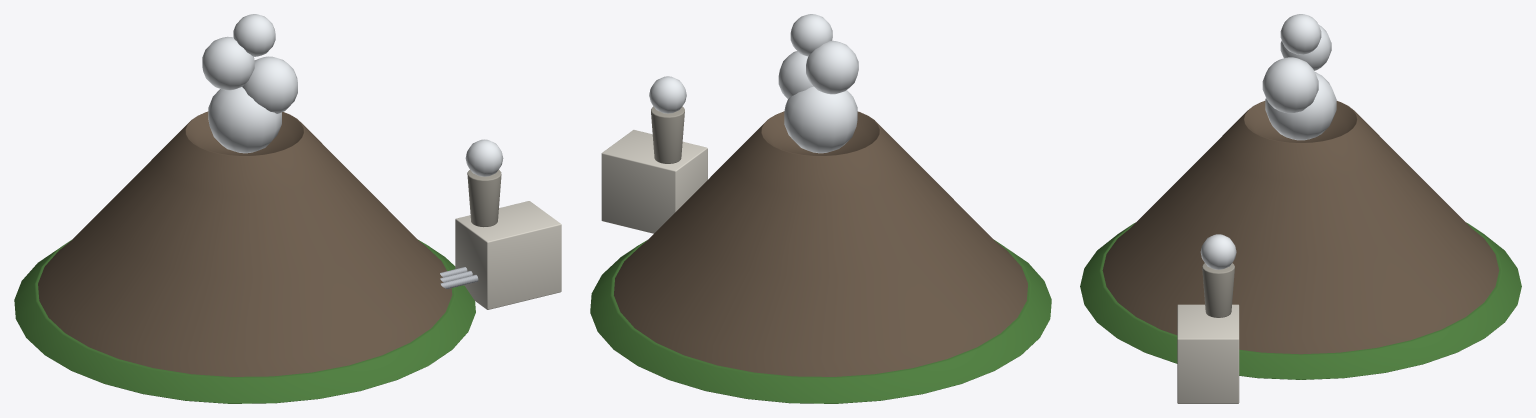
The model's file is volcano.glb.
The picture shows the model from 3 angles, left to right: view 1: azimuth 30°, elevation 25°; view 2: azimuth 150°, elevation 25°; view 3: azimuth 270°, elevation 25°; orthographic projection. The views are drawn at different scales.
Visible parts, largest first — view 1: volcano; view 2: volcano; view 3: volcano.
Boxes of the visible parts, <box> form: volcano: <box>14,14,561,403</box>; volcano: <box>590,14,1051,403</box>; volcano: <box>1080,14,1521,403</box>.
Bounding box in the file's own units: 9.69 × 5.9 × 8.58.
